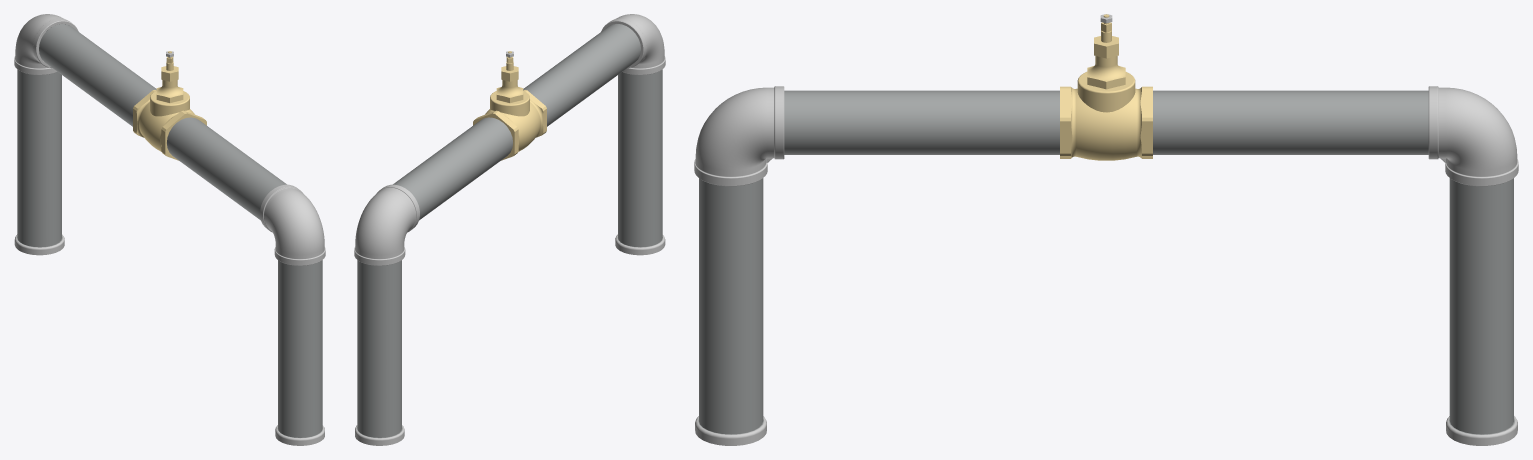
The model's file is valve_assembly.dae.
3 views of the same model, side by side, from view 1: azimuth 30°, elevation 25°; view 2: azimuth 150°, elevation 25°; view 3: azimuth 270°, elevation 25° (orthographic). The views are drawn at different scales.
Visible parts, largest first — view 1: valve_assembly; view 2: valve_assembly; view 3: valve_assembly.
Boxes of the visible parts, x1,y1,x2,y2 form: valve_assembly: (14, 14, 325, 445); valve_assembly: (354, 14, 665, 445); valve_assembly: (694, 14, 1518, 445).
Bounding box in the file's own units: 0.1374 × 1.5 × 0.8315.
